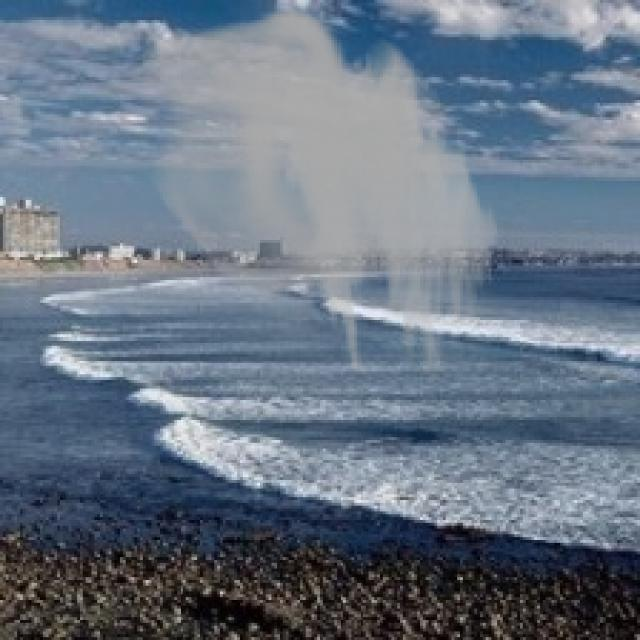Smoke: (140, 8, 503, 374)
